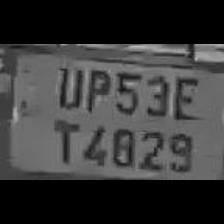2: (137, 125, 165, 171)
3: (142, 70, 170, 119)
4: (78, 119, 108, 167)
5: (110, 64, 142, 116)
8: (107, 122, 136, 168)
9: (164, 127, 195, 175)
E: (170, 70, 198, 119)
P: (82, 64, 110, 114)
T: (48, 114, 80, 164)
U: (52, 62, 84, 110)
